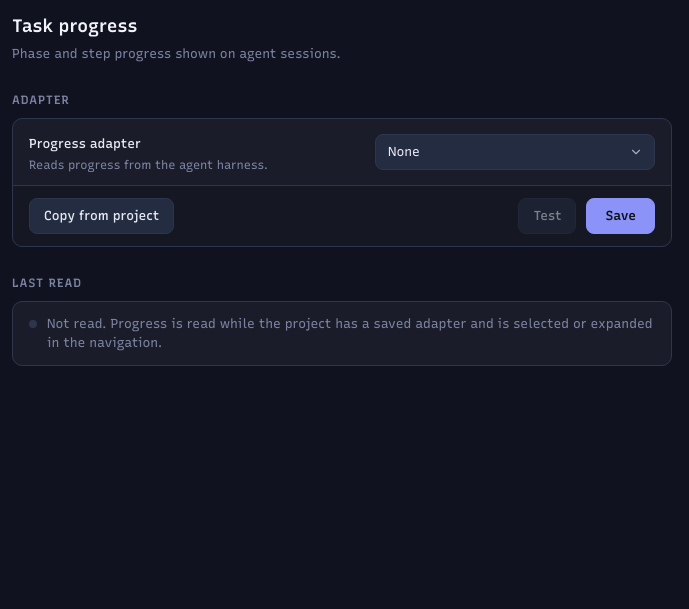
TaskProgressSettings › Test runs with the current unsaved values and shows the summary inline
Select "Example · example" in the dropdown with test id "settings-task-progress-adapter-select" at (515, 152), box [375, 134, 655, 170]
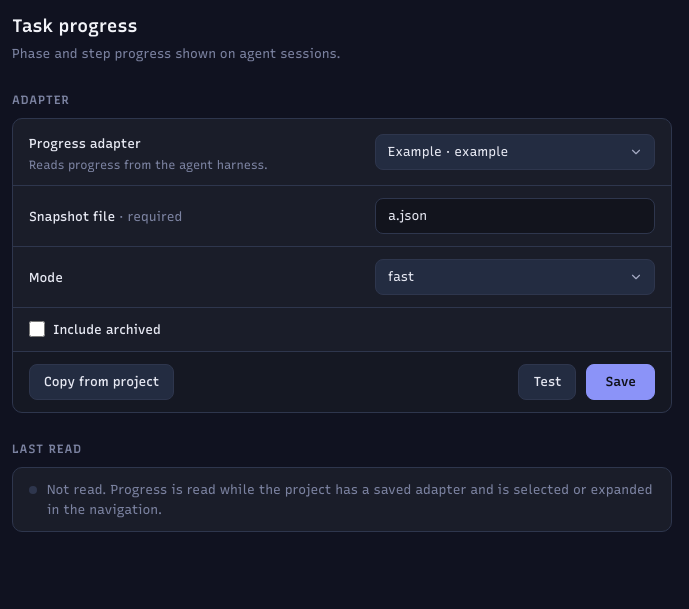
Replace the text in the field labelled "Snapshot file · required" with "draft.json" at (515, 216), box [375, 198, 655, 234]
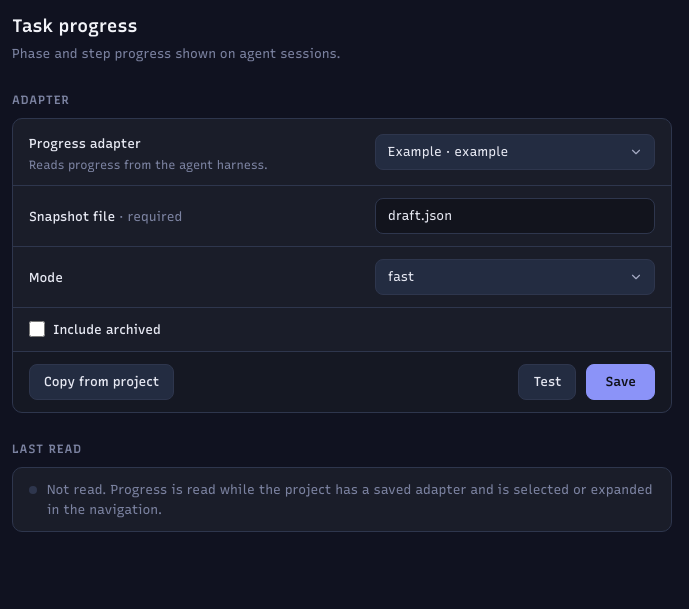
Click the button with test id "settings-task-progress-test" at (548, 382), box [518, 364, 576, 400]
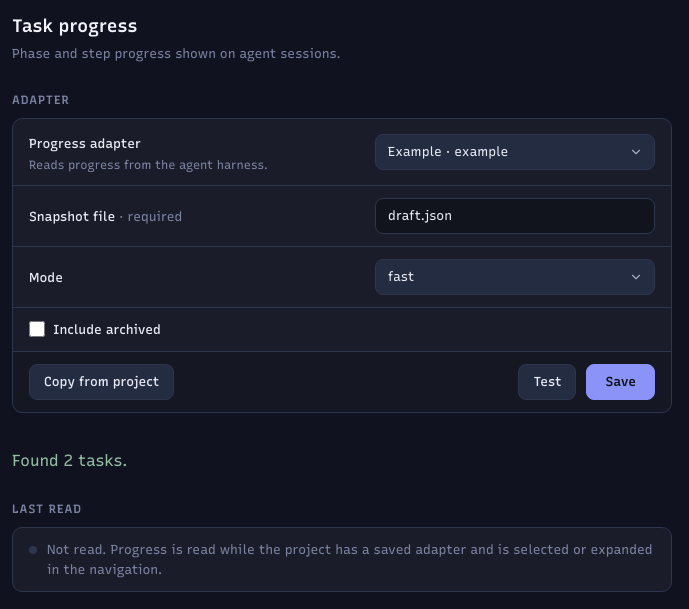
Result: the message with test id "settings-task-progress-test-result" reads "Found 2 tasks." at [12, 451, 128, 470]
